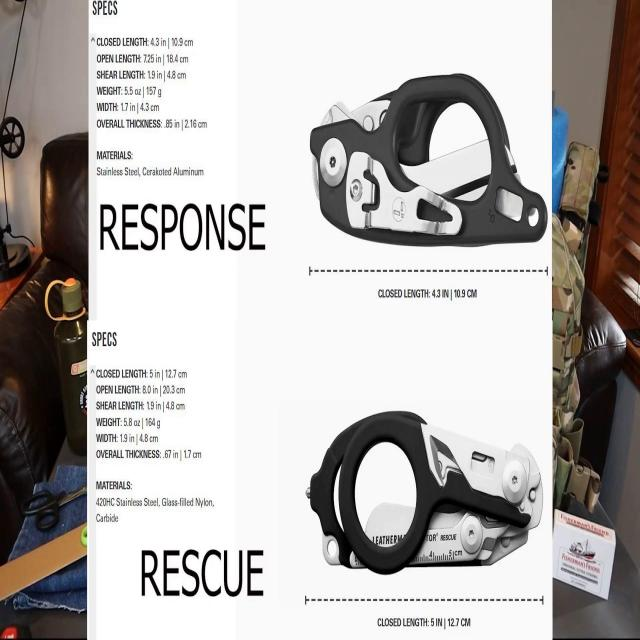scissor: (20, 482, 87, 532)
